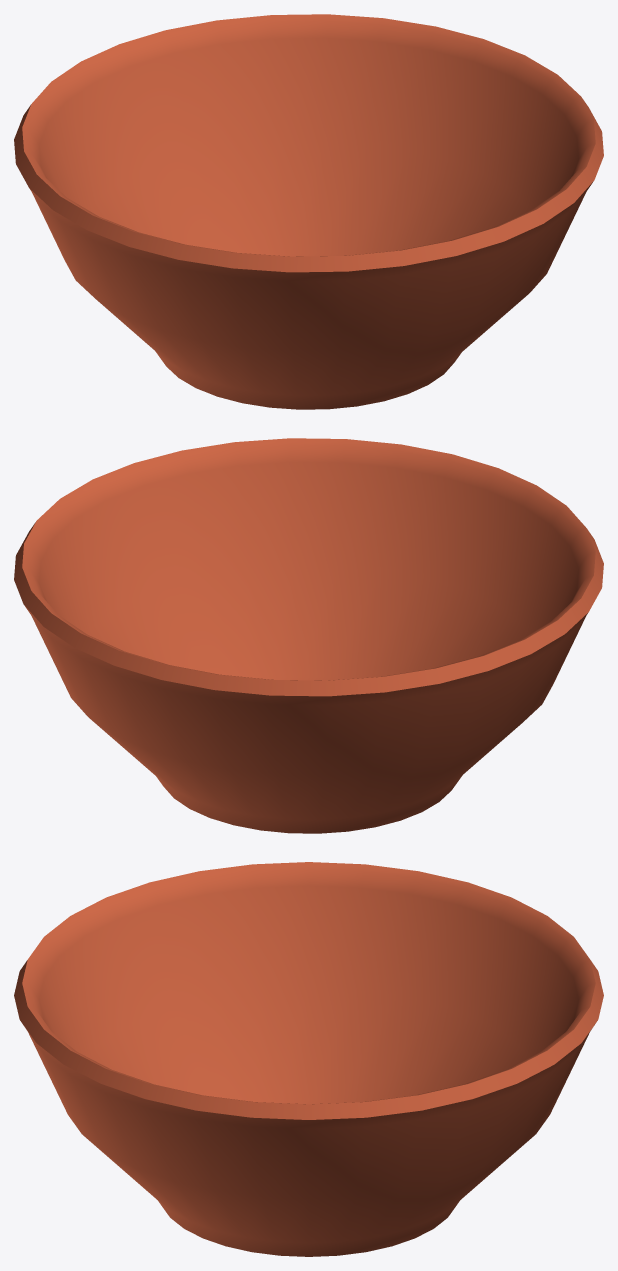
Rendered from tigela_terracota.glb.
3 views of the same model, one above another, from view 1: azimuth 30°, elevation 25°; view 2: azimuth 150°, elevation 25°; view 3: azimuth 270°, elevation 25° (orthographic).
Parts seen in each view (by area): view 1: tigela_terracota; view 2: tigela_terracota; view 3: tigela_terracota.
Boxes of the visible parts, <box> form: tigela_terracota: <box>14,14,603,409</box>; tigela_terracota: <box>14,438,603,833</box>; tigela_terracota: <box>14,862,603,1256</box>.
Bounding box in the file's own units: 0.216 × 0.085 × 0.216.
1 material, 1 textured.
